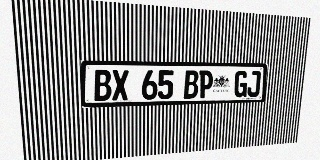5: (158, 70, 174, 99)
6: (142, 70, 158, 100)
B: (93, 70, 112, 101), (184, 70, 199, 99)
G: (234, 71, 248, 97)
J: (247, 71, 261, 97)
P: (198, 70, 213, 98)
X: (112, 70, 129, 101)
